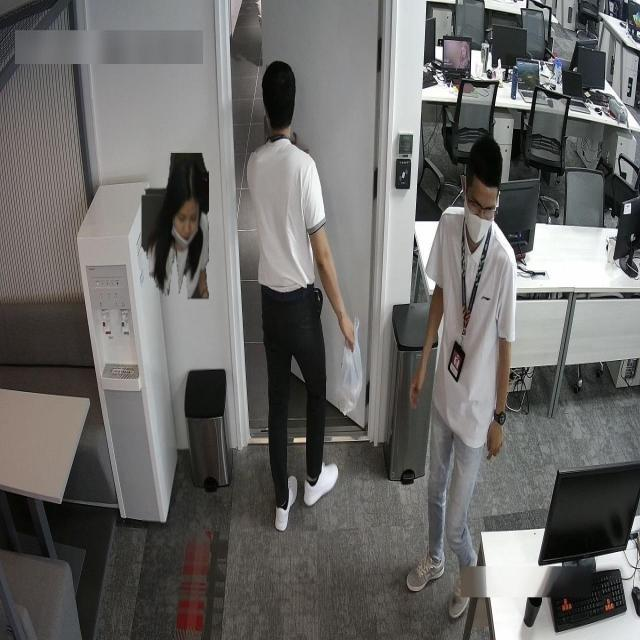hairnet: (172, 180, 202, 244)
